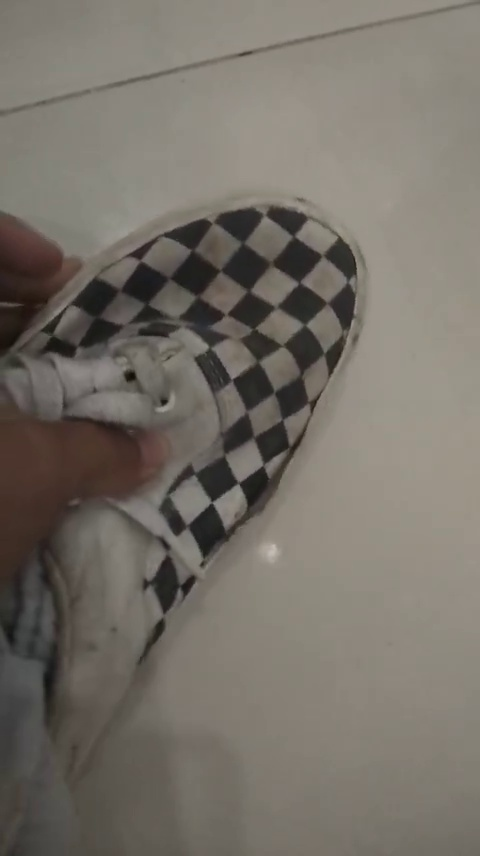bonding: (233, 406, 310, 537)
